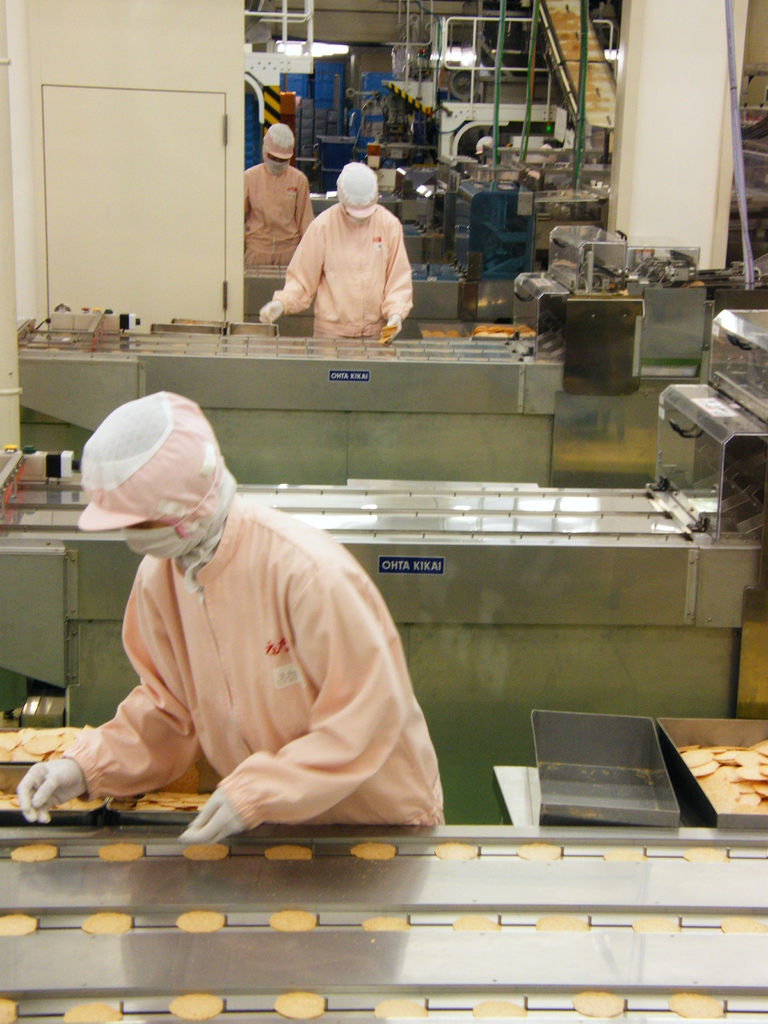Person: (16, 391, 445, 844), (258, 161, 414, 343), (244, 122, 314, 263)
